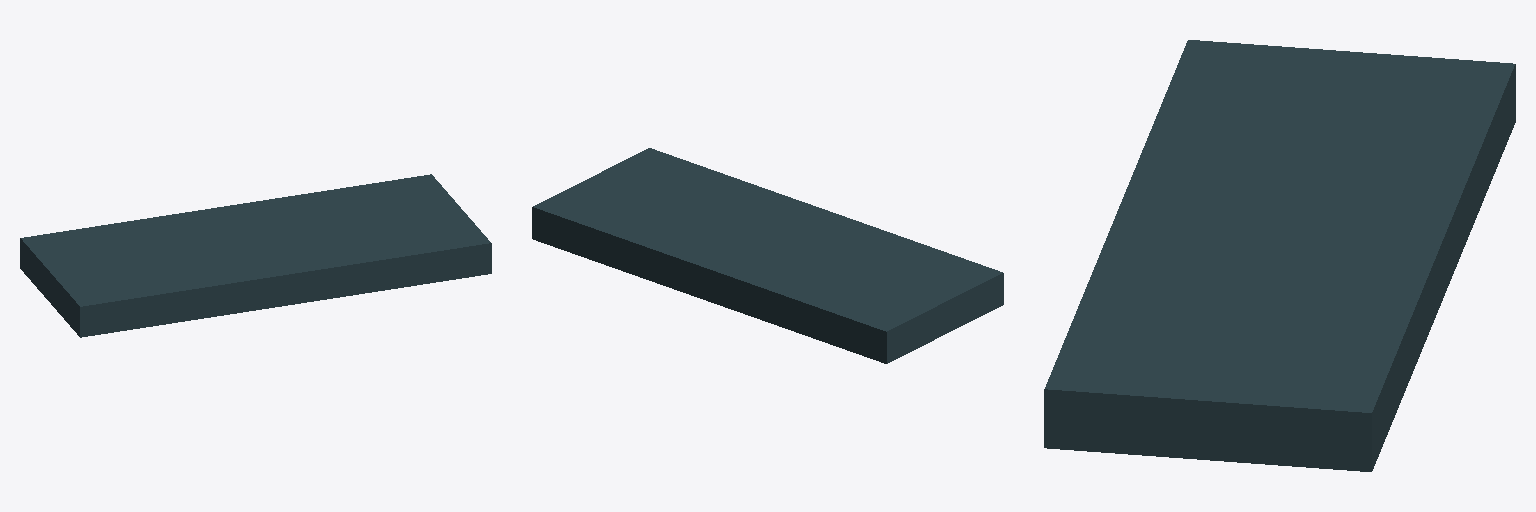
The robot description file, URDF, robot "Interference":
<?xml version="1.0"?>
<robot name="Interference">
  <link name="baseLink">
    <inertial>
      <origin xyz="0.0 0.0 0.0" rpy="0.0 0.0 0.0"/>
      <inertia ixx="0.0" ixy="0.0" ixz="0.0" iyy="0.0" iyz="0.0" izz="0.0"/>
      <mass value="0"/>
    </inertial>
    <visual>
      <origin xyz="0.0 0.0 0.0" rpy="0.0 0.0 -0.1718059314755247"/>
      <geometry>
        <box size="0.12865878585879628 0.05094106667670045 0.01"/>
      </geometry>
      <material name="color">
        <color rgba="0.24179562764758 0.32439604233006636 0.3507060299598256 1.0"/>
      </material>
    </visual>
  </link>
</robot>

--- Render facts (derived) ---
Views: 3 orthographic renders of the robot side by side, from view 1: azimuth 30°, elevation 25°; view 2: azimuth 150°, elevation 25°; view 3: azimuth 270°, elevation 25°.
Model Interference with 1 links and 0 joints (none), rooted at baseLink, posed every joint at zero.
Links seen in each view (by area): view 1: baseLink; view 2: baseLink; view 3: baseLink.
Boxes of the visible links, x1,y1,x2,y2 form: baseLink: (20, 174, 491, 337); baseLink: (532, 148, 1003, 363); baseLink: (1044, 40, 1515, 471).
Bounding box of the posed robot: 0.1355 × 0.0722 × 0.01 m (x, y, z).
Geometry: primitives only (box / cylinder / sphere), no mesh files.